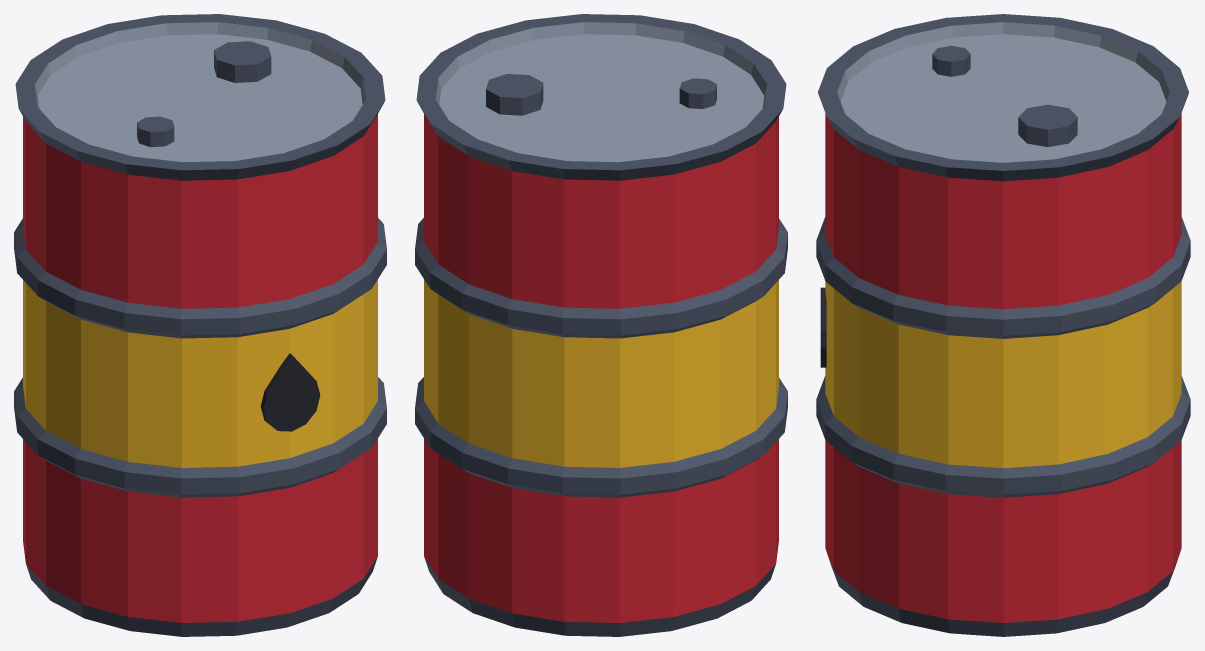
File: OilDrum.fbx
3 renders of one model, left to right at view 1: azimuth 30°, elevation 25°; view 2: azimuth 150°, elevation 25°; view 3: azimuth 270°, elevation 25°, orthographic.
Parts seen in each view (by area): view 1: OilDrum; view 2: OilDrum; view 3: OilDrum.
Part boxes in pixels (<box>): OilDrum: <box>14,14,386,636</box>; OilDrum: <box>415,14,787,636</box>; OilDrum: <box>816,14,1190,636</box>.
Size of the model in its own units: 2.52 by 3.55 by 2.52.
Materials: 1 (1 with a texture image).
